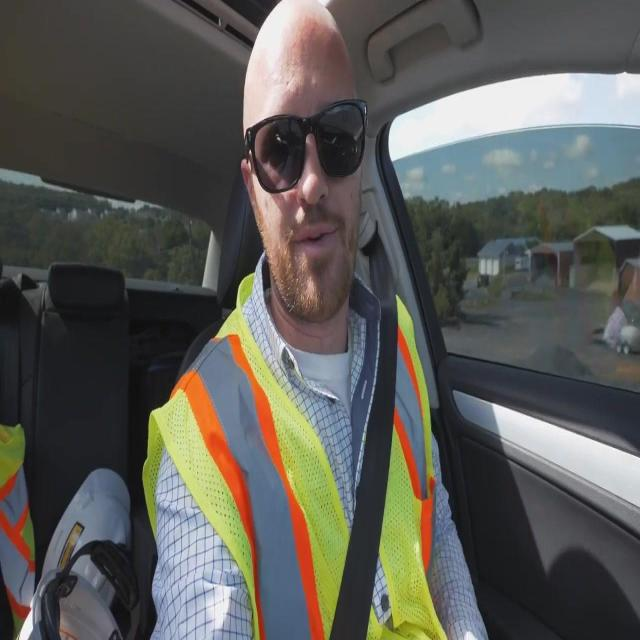Vest: (140, 270, 448, 638), (0, 421, 40, 639)
